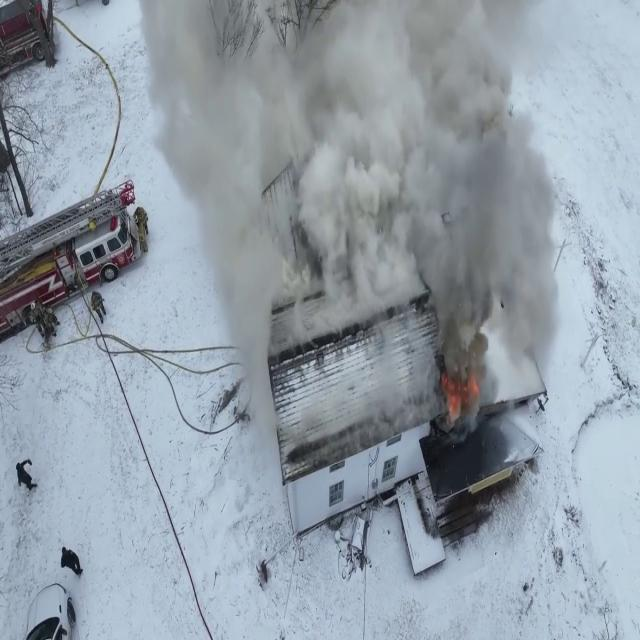Smoke: (131, 0, 579, 375)
